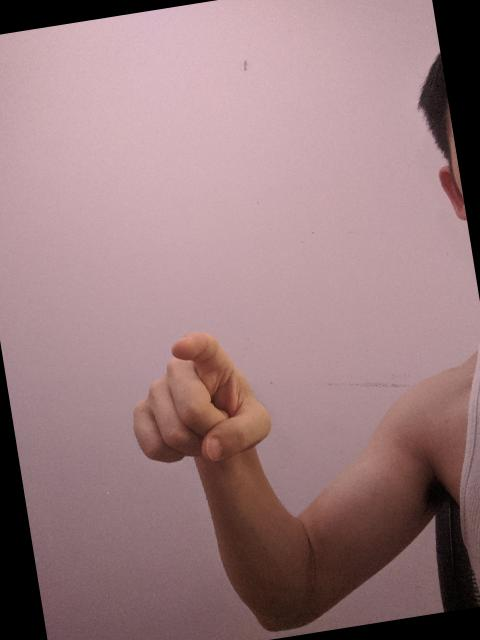Z: (116, 320, 280, 477)
